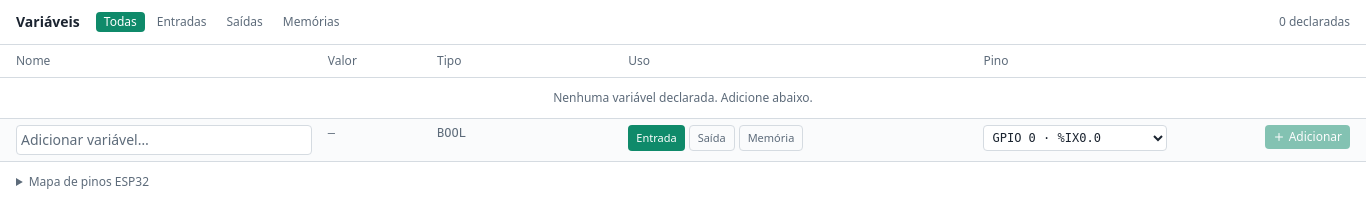
PainelVariaveis — declarar via núcleo › classe Memória via controle segmentado: adiciona sem pino
The width and height of the screenshot is (1366, 209).
Click the radio button labelled "Memória" at {"x": 771, "y": 138}, box [739, 125, 803, 151]
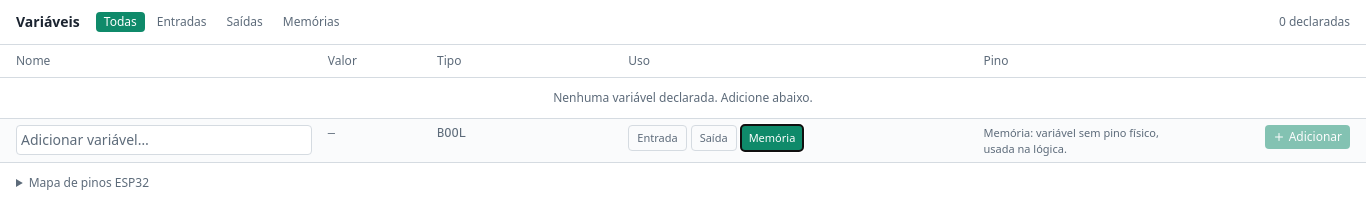
Type "contador" into the field named "Nome da nova variável" at {"x": 164, "y": 140}, box [16, 125, 312, 155]
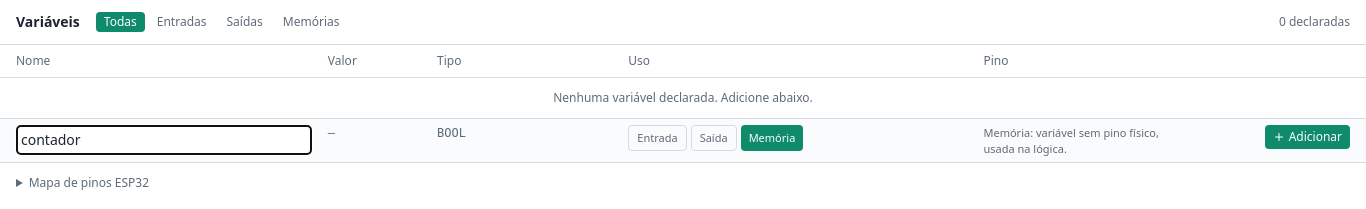
Click the button "Adicionar" at {"x": 1307, "y": 137}, box [1265, 125, 1350, 149]
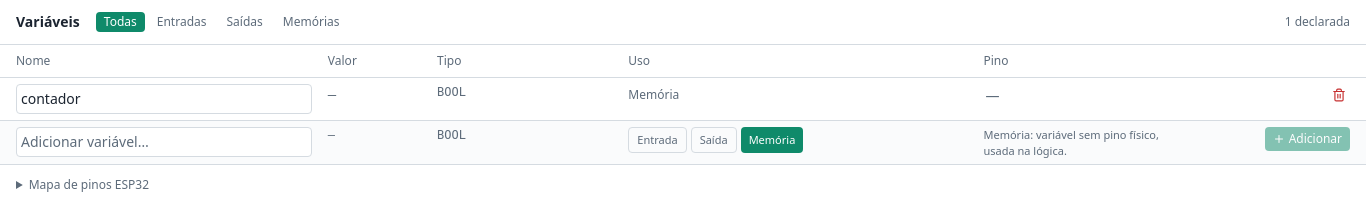
Expected: the field named "Nome da variável contador" is shown, [16, 84, 312, 114]
Click the button named "Alterar pino de contador" at {"x": 1075, "y": 96}, box [984, 84, 1167, 108]
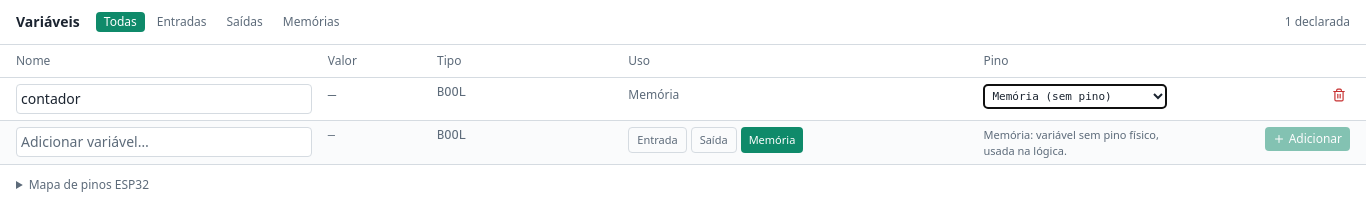
Expected: the text "1 declarada" is shown, [1285, 14, 1350, 30]
Expected: the dropdown named "Pino da variável contador" shows "Memória (sem pino)", [984, 84, 1167, 109]
